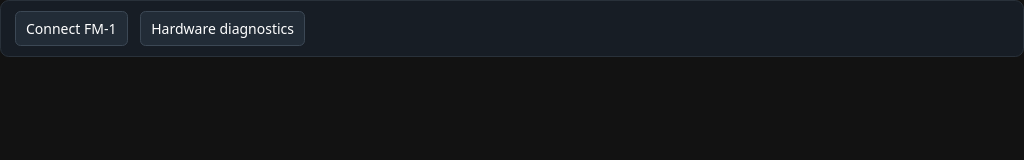
Test case: pairs different Windows suffixes and waits for valid firmware before forwarding MIDI
What coordinates should you click on to do the following:
click the button "Connect FM-1"
I would click on:
 (71, 28)
Its box is left=15, top=11, right=128, bottom=46.
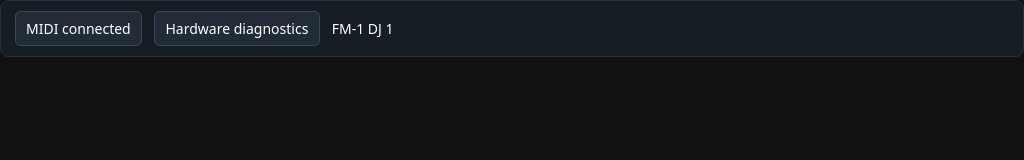
Result: the button "MIDI connected" is shown at left=15, top=11, right=142, bottom=46
